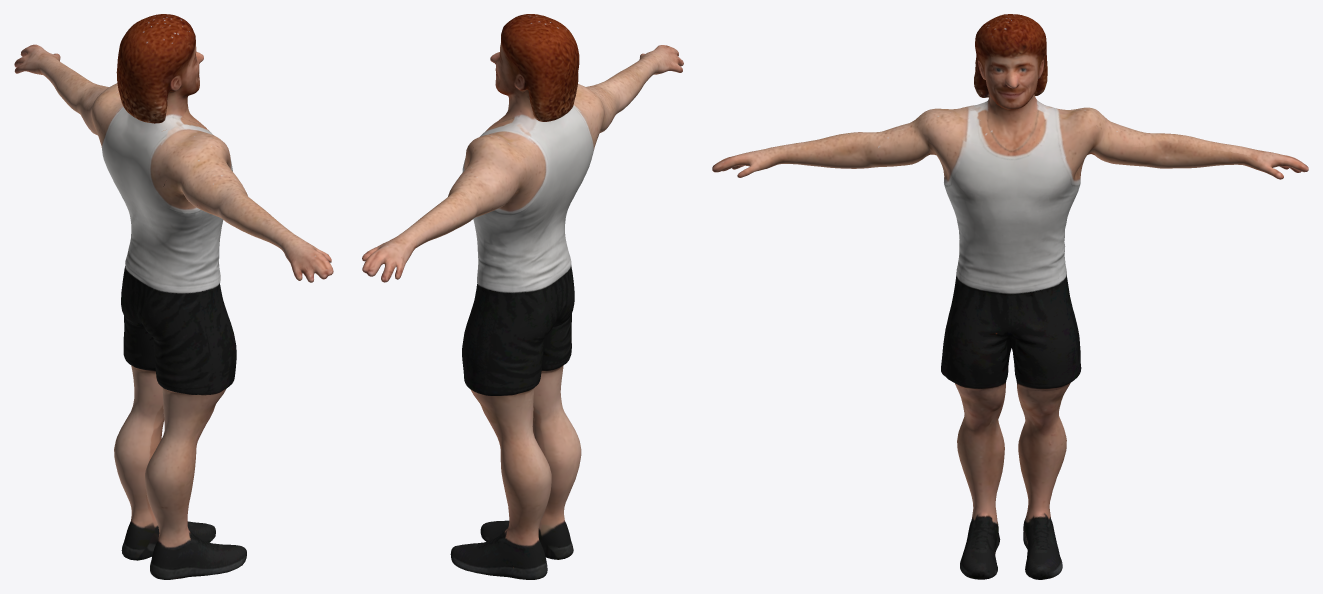
The model's file is summer.glb.
The picture shows the model from 3 angles, left to right: view 1: azimuth 30°, elevation 25°; view 2: azimuth 150°, elevation 25°; view 3: azimuth 270°, elevation 25°; orthographic projection. The views are drawn at different scales.
Parts seen in each view (by area): view 1: Mario Summer; view 2: Mario Summer; view 3: Mario Summer.
Boxes of the visible parts, box(x1,y1,x2,y2) form: Mario Summer: box(14, 14, 333, 579); Mario Summer: box(362, 14, 683, 579); Mario Summer: box(712, 14, 1308, 579).
Size of the model in its own units: 0.2013 by 0.9838 by 0.9987.
1 material, 1 textured.
